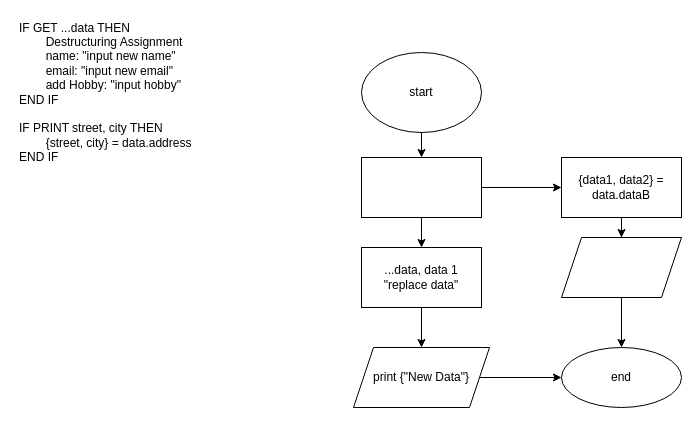
Some shapes in this 699 by 425 pixel diagram are drawn without their labels. Here are the shapes that lost their labels. From the top down, the box of each, then its label:
(360, 156, 482, 218): data{data A, dataB, {data 1},{data 2}}
(560, 236, 682, 298): print data1 print data2
